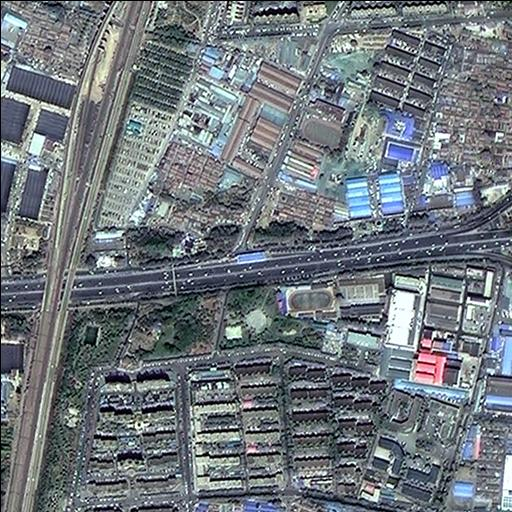school: (285, 275, 385, 321), (298, 95, 351, 149)
